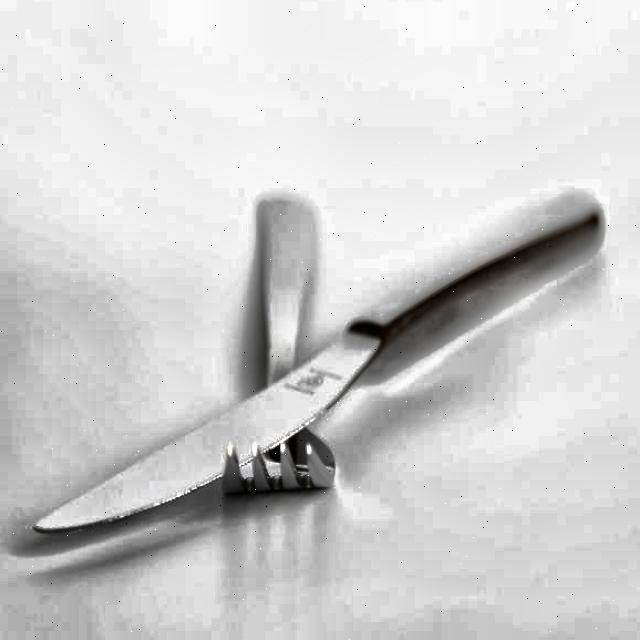knife: (28, 199, 612, 538)
